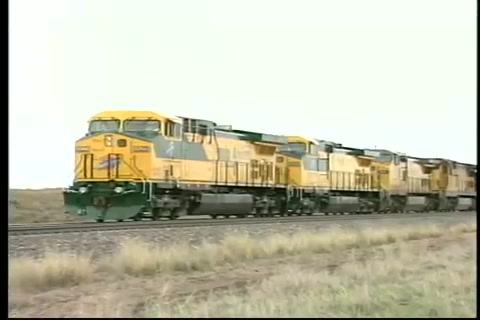train: (63, 109, 477, 222)
